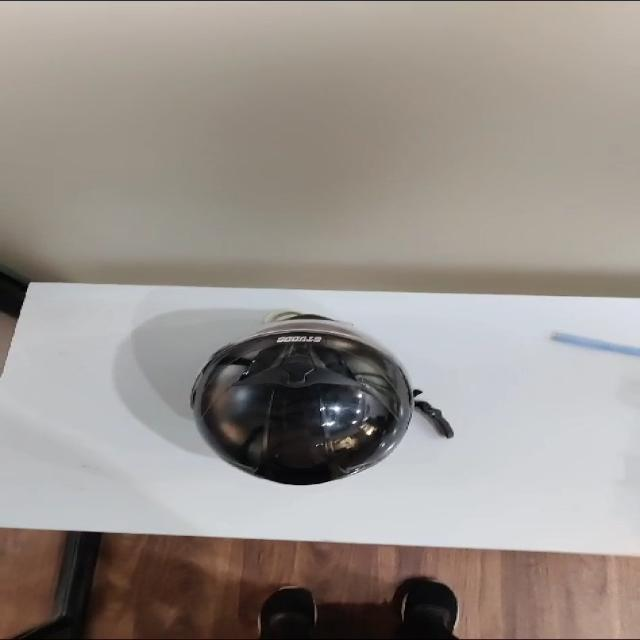helmet: (190, 312, 416, 483)
